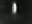person: (12, 3, 18, 18)
